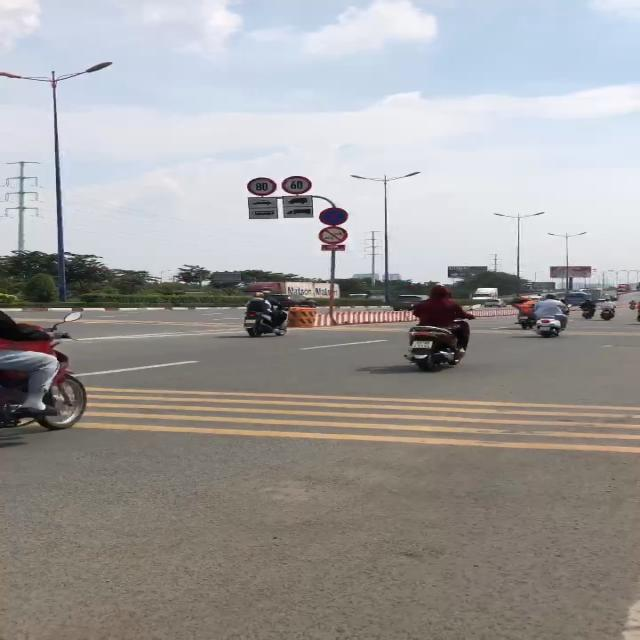Bien bao toc do toi da cho phep: (280, 174, 314, 196), (246, 176, 278, 197)
